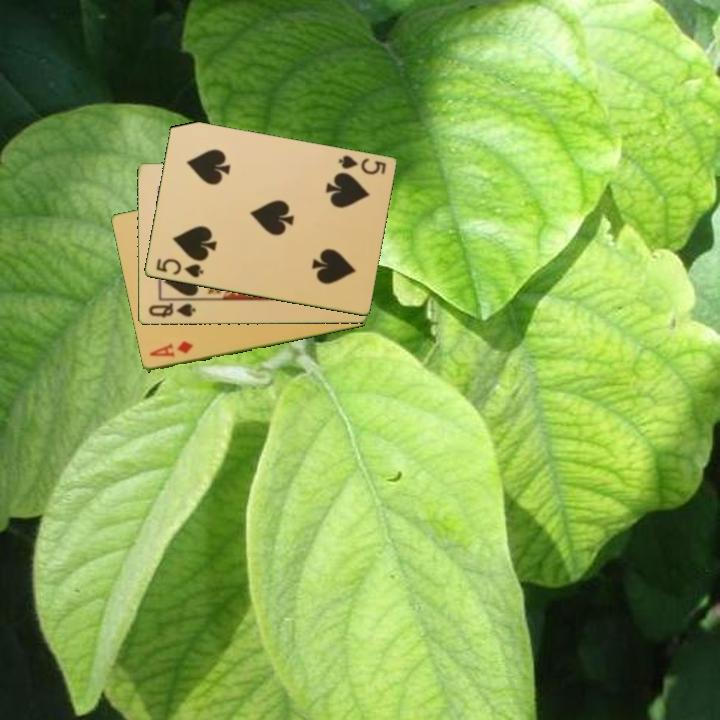5s: (334, 152, 389, 178), (152, 255, 206, 281)
Ad: (145, 337, 196, 361)
Qs: (145, 300, 198, 321)
